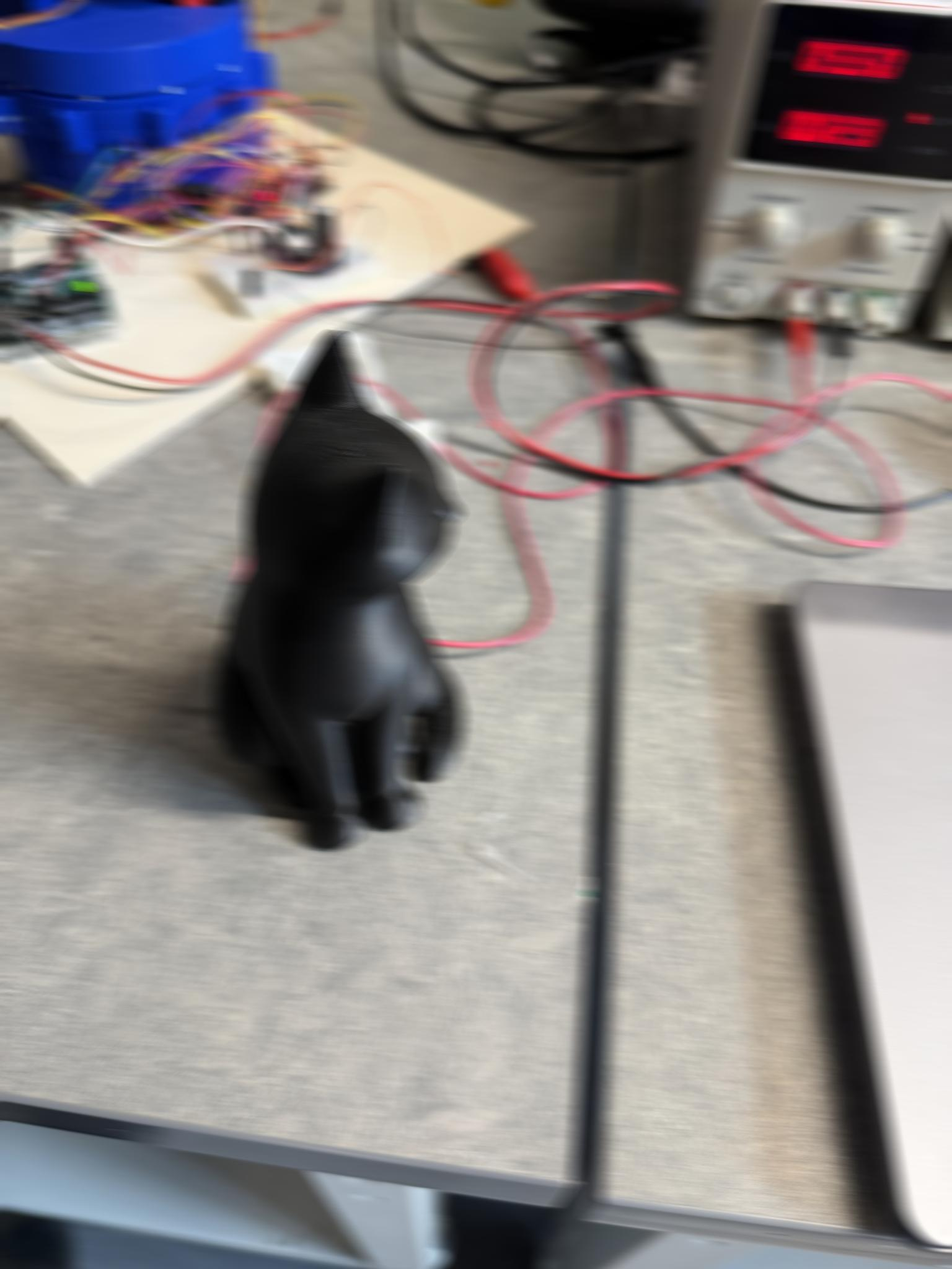cat: (211, 330, 465, 849)
